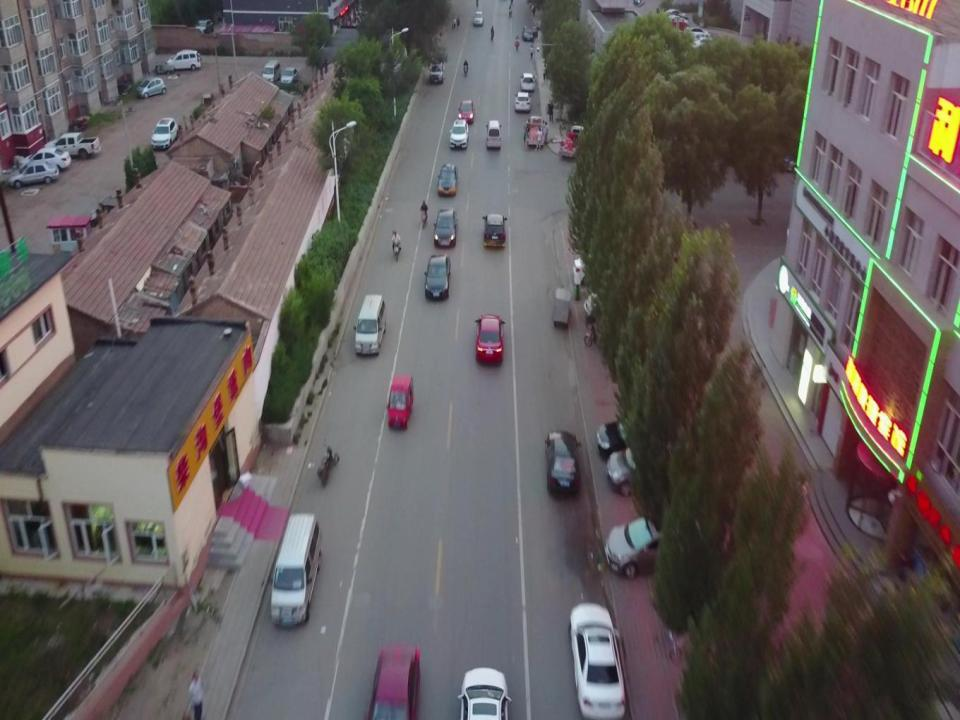car: (569, 601, 626, 719), (605, 514, 700, 580), (606, 440, 690, 496), (367, 643, 422, 720), (596, 412, 678, 460), (459, 665, 512, 720), (543, 429, 582, 497), (43, 132, 102, 160), (475, 314, 506, 362), (20, 146, 72, 172), (8, 163, 59, 189), (558, 123, 591, 163), (424, 252, 452, 298), (433, 208, 458, 247), (150, 116, 178, 148), (482, 214, 507, 246), (136, 77, 167, 99), (449, 118, 469, 150), (437, 164, 457, 194), (428, 61, 446, 83), (690, 37, 720, 50), (281, 66, 299, 86), (514, 91, 531, 112), (458, 101, 474, 122), (664, 14, 691, 26), (682, 27, 711, 38), (194, 18, 215, 33), (520, 72, 535, 92), (522, 24, 538, 42), (663, 8, 687, 18), (473, 12, 483, 26)
truck: (527, 115, 545, 146)
van: (269, 512, 323, 629), (352, 293, 386, 355), (166, 50, 201, 72), (261, 56, 281, 83), (485, 120, 503, 148)
